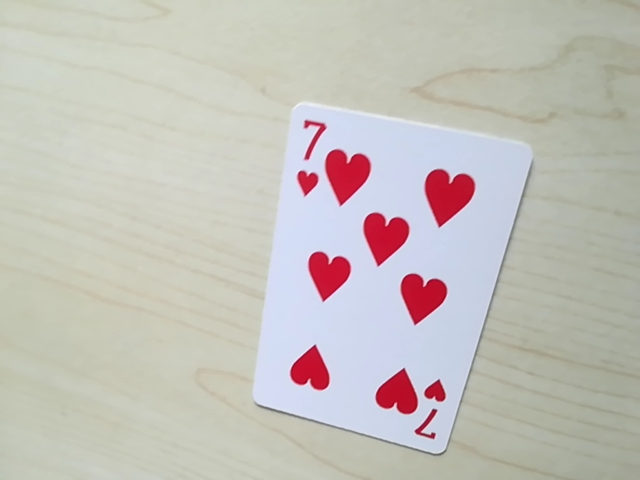hx 7: (402, 400, 446, 450), (293, 110, 337, 151)
